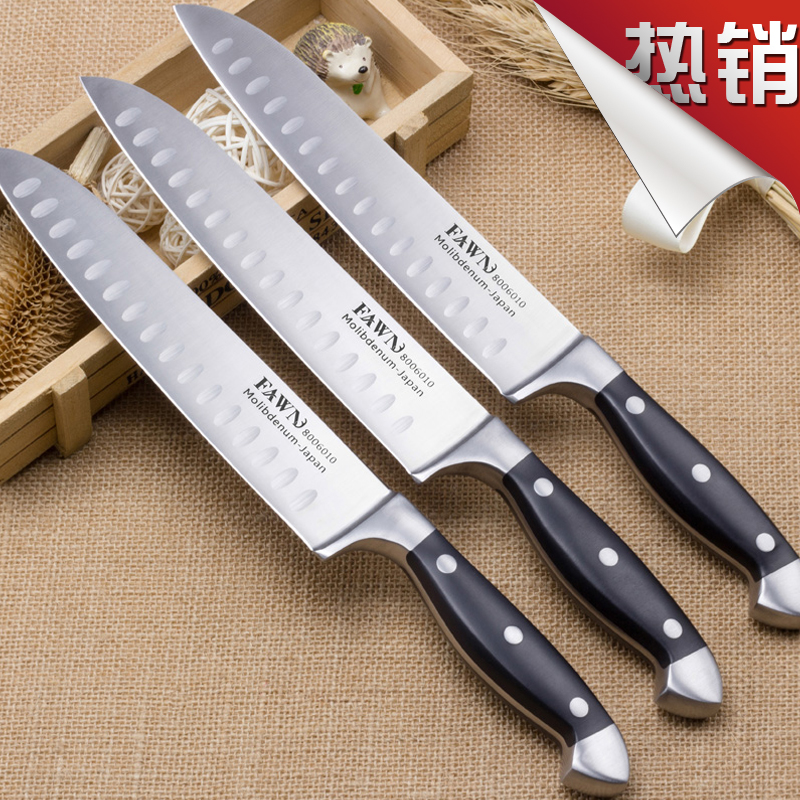knief: (8, 143, 601, 783)
